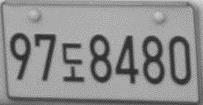0: (168, 35, 191, 85)
4: (114, 34, 139, 84)
7: (33, 33, 56, 81)
8: (141, 35, 165, 84), (89, 33, 112, 82)
9: (9, 32, 31, 80)
도: (61, 42, 84, 82)
